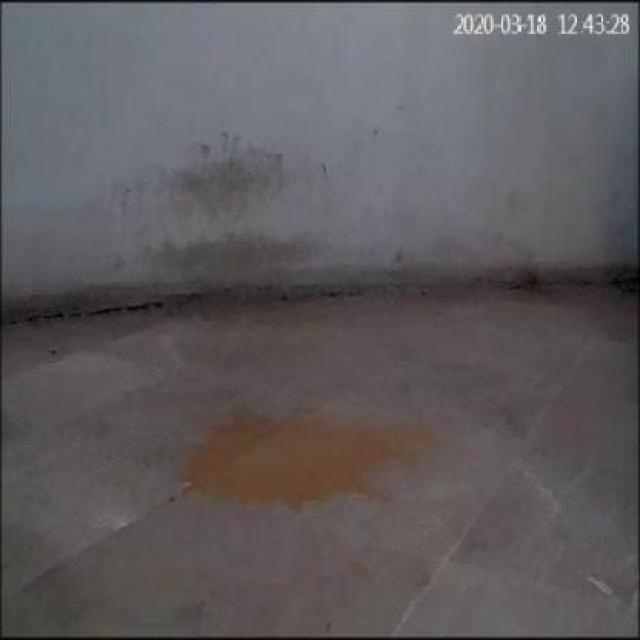spillage: (177, 404, 444, 516)
